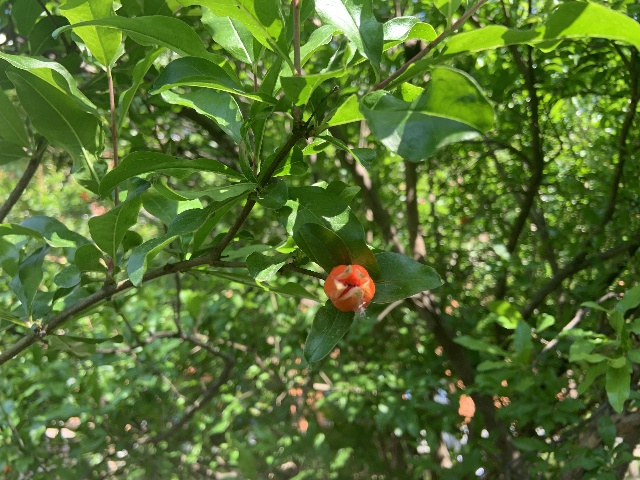flower: (324, 263, 374, 311)
